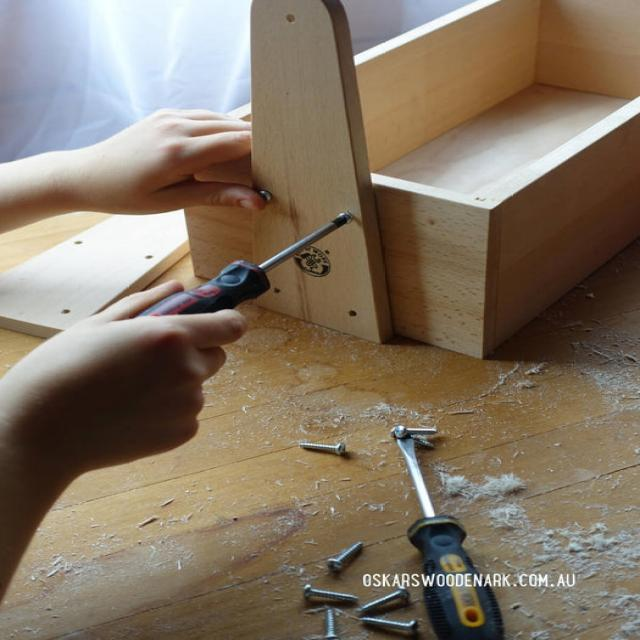screwdriver: (125, 200, 363, 352), (376, 410, 504, 640)
